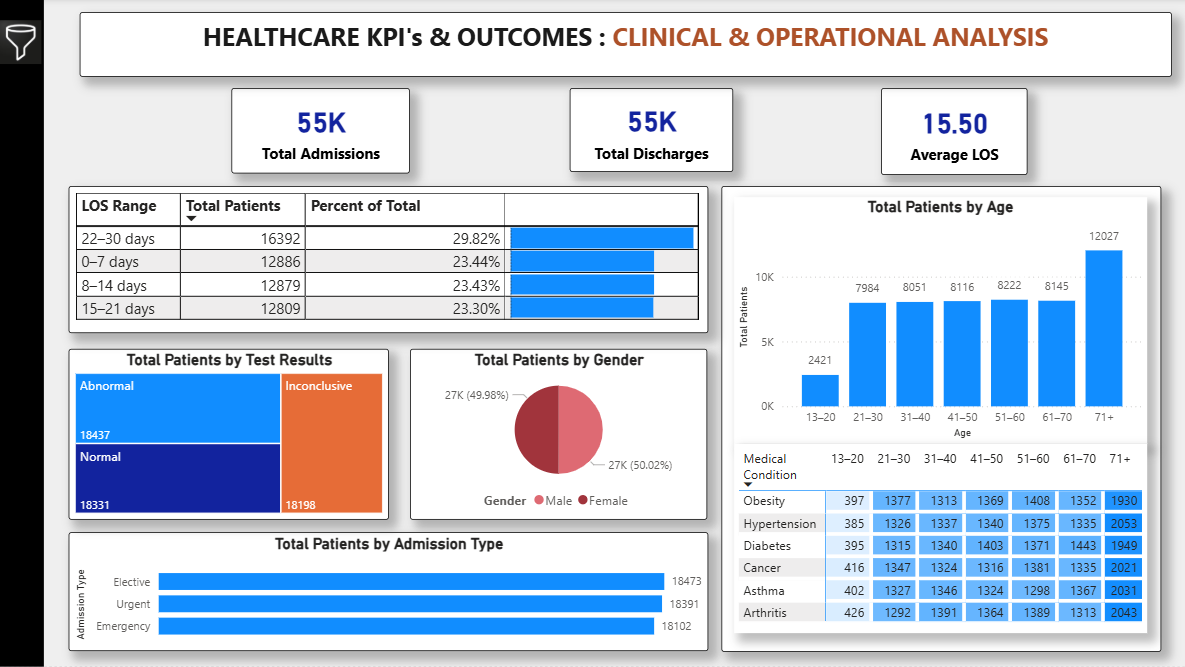

The page's visual inventory and layout, read from the dashboard file:
{"tool":"powerbi","page":{"name":"Clinical and Operational Analysis","canvas":[1280,720],"ordinal":1},"visuals":[{"type":"card","fields":{"Values":["Avg(healthcare_dataset.Subtraction)"]},"box":[952.3,97,157.8,93.3],"z":0},{"type":"textbox","box":[779.1,202.4,473.2,501.7],"z":0,"group":"g1"},{"type":"lineClusteredColumnComboChart","fields":{"Category":["healthcare_dataset.Age_Bin"],"Y":["Sum(healthcare_dataset.name_exists)"]},"box":[792,214.5,444.7,265.3],"z":1000,"group":"g1"},{"type":"card","fields":{"Values":["healthcare_dataset.total discharges"]},"box":[616.1,97,175.6,90.6],"z":2000},{"type":"pivotTable","fields":{"Rows":["healthcare_dataset.Medical Condition"],"Columns":["healthcare_dataset.Age_Bin"],"Values":["Sum(healthcare_dataset.name_exists)"]},"box":[791.9,480.4,444.7,203.8],"z":2000,"group":"g1"},{"type":"card","fields":{"Values":["healthcare_dataset.total number of admissions"]},"box":[252.5,97,192.1,91.9],"z":4000},{"type":"pieChart","fields":{"Category":["healthcare_dataset.Gender"],"Y":["Sum(healthcare_dataset.name_exists)"]},"box":[445,378,319.7,183.9],"z":5000},{"type":"clusteredBarChart","fields":{"Category":["healthcare_dataset.Admission Type"],"Y":["Sum(healthcare_dataset.name_exists)"]},"box":[75.9,575.6,688.9,127.6],"z":7000},{"type":"group","id":"g1","title":"Group 1","box":[779.1,202.4,473.2,501.7],"z":9000},{"type":"treemap","fields":{"Group":["healthcare_dataset.Test Results"],"Values":["Sum(healthcare_dataset.name_exists)"]},"box":[77,377.7,344.9,183.9],"z":11000},{"type":"tableEx","fields":{"Values":["healthcare_dataset.LOS_Bin","Sum(healthcare_dataset.name_exists)","healthcare_dataset.Patients_percent_total","healthcare_dataset.Patients_percent_bar"]},"box":[77,202.4,688.5,158.2],"z":13000},{"type":"textbox","box":[89.2,15.1,1176,70],"z":15000},{"type":"shape","box":[1.4,0,48,720],"z":16000},{"type":"image","box":[1.7,0,46,95.3],"z":17000},{"type":"actionButton","box":[0,0,47.7,95.3],"z":18000}]}

Visuals, with their boxes on the page's 1280x720 design canvas (x1, y1, x2, y2). These are canvas units, not pixel positions in the 1185x667 screenshot, which may show the page scaled, cropped or inside an application window:
card - Avg(healthcare_dataset.Subtraction): 952/97/1110/190
textbox: 779/202/1252/704
lineClusteredColumnComboChart - healthcare_dataset.Age_Bin x Sum(healthcare_dataset.name_exists): 792/214/1237/480
card - healthcare_dataset.total discharges: 616/97/792/188
pivotTable - healthcare_dataset.Medical Condition x healthcare_dataset.Age_Bin: 792/480/1237/684
card - healthcare_dataset.total number of admissions: 252/97/445/189
pieChart - healthcare_dataset.Gender x Sum(healthcare_dataset.name_exists): 445/378/765/562
clusteredBarChart - healthcare_dataset.Admission Type x Sum(healthcare_dataset.name_exists): 76/576/765/703
"Group 1" group: 779/202/1252/704
treemap - healthcare_dataset.Test Results x Sum(healthcare_dataset.name_exists): 77/378/422/562
tableEx - healthcare_dataset.LOS_Bin x Sum(healthcare_dataset.name_exists): 77/202/766/361
textbox: 89/15/1265/85
shape: 1/0/49/720
image: 2/0/48/95
actionButton: 0/0/48/95
